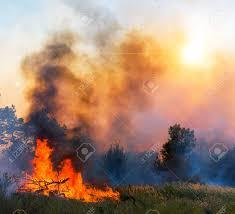fire: (15, 137, 120, 203)
yanwu: (3, 1, 235, 148)
